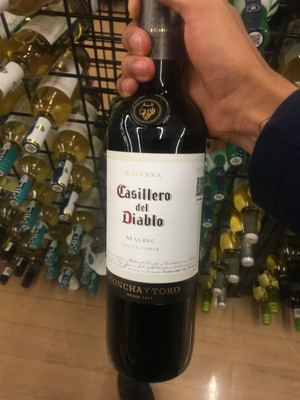casillero del diablo malbec: (86, 6, 217, 388)
